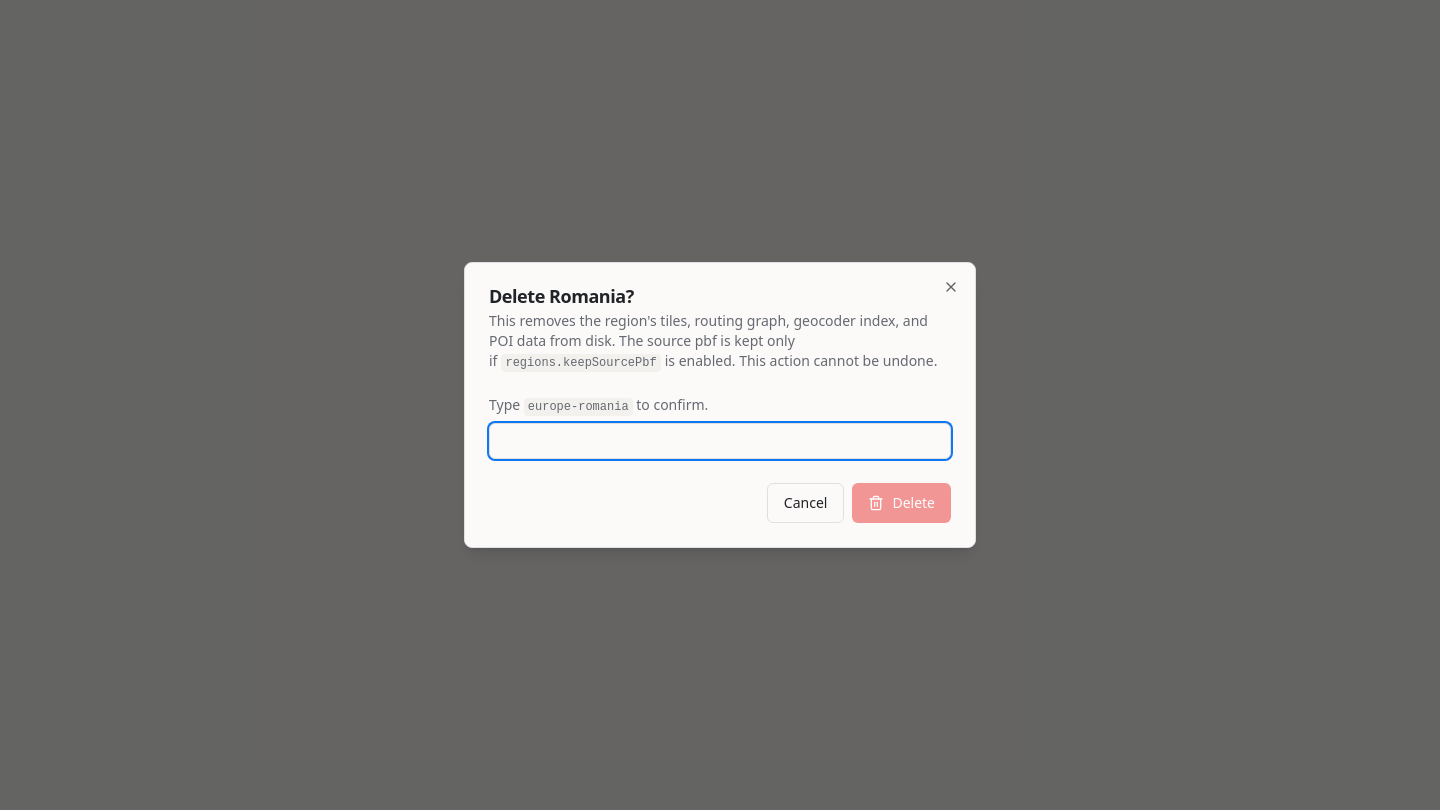
<DeleteDialog /> › keeps the delete button disabled until the typed name matches
The image size is (1440, 810).
Check: the button with aria-label "delete romania" is disabled, box [852,483,951,523]
In the field named "confirm region name": (720, 441) [489,423,951,459], type "europe-rom"
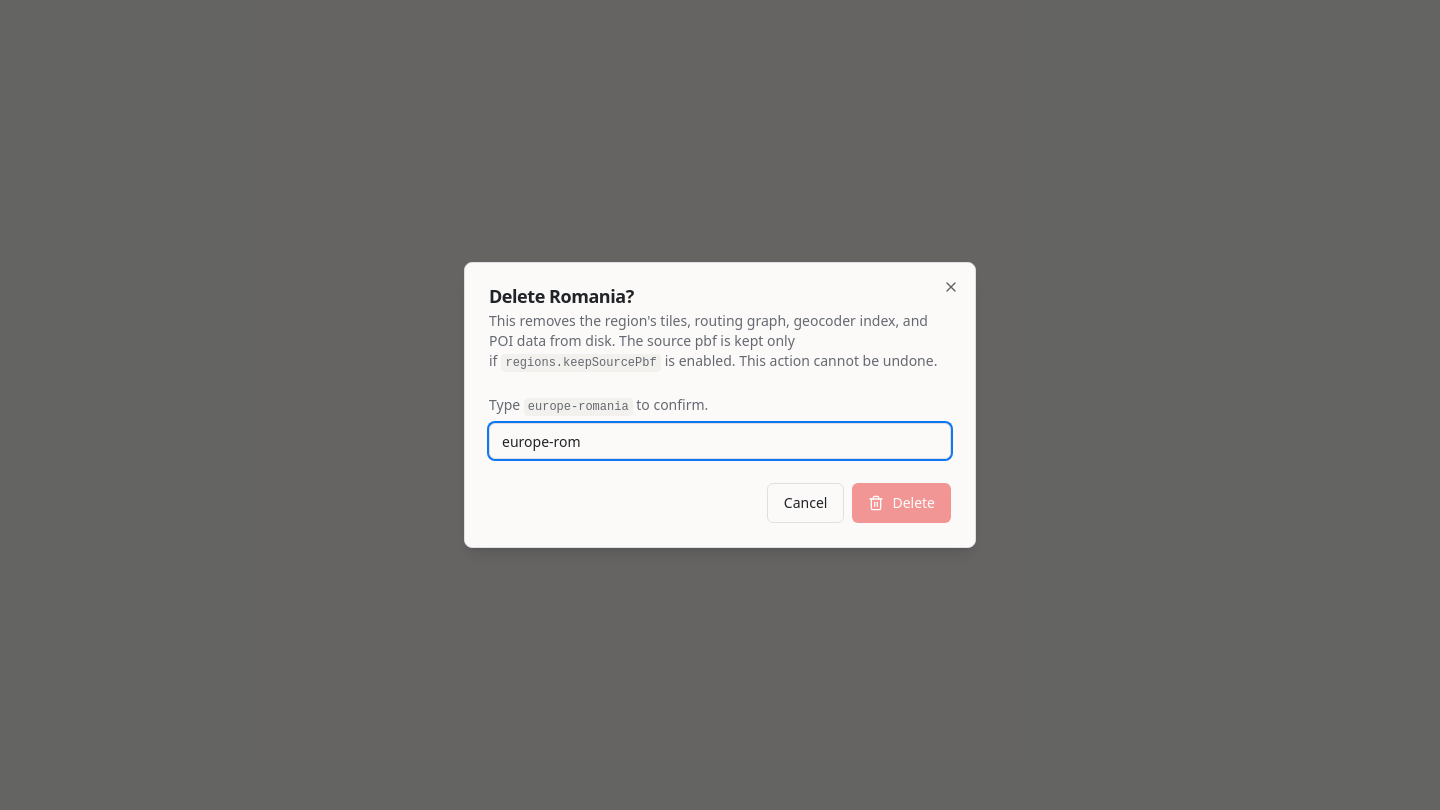
Check: the button with aria-label "delete romania" is disabled, box [852,483,951,523]
In the field named "confirm region name": (720, 441) [489,423,951,459], type "ania"
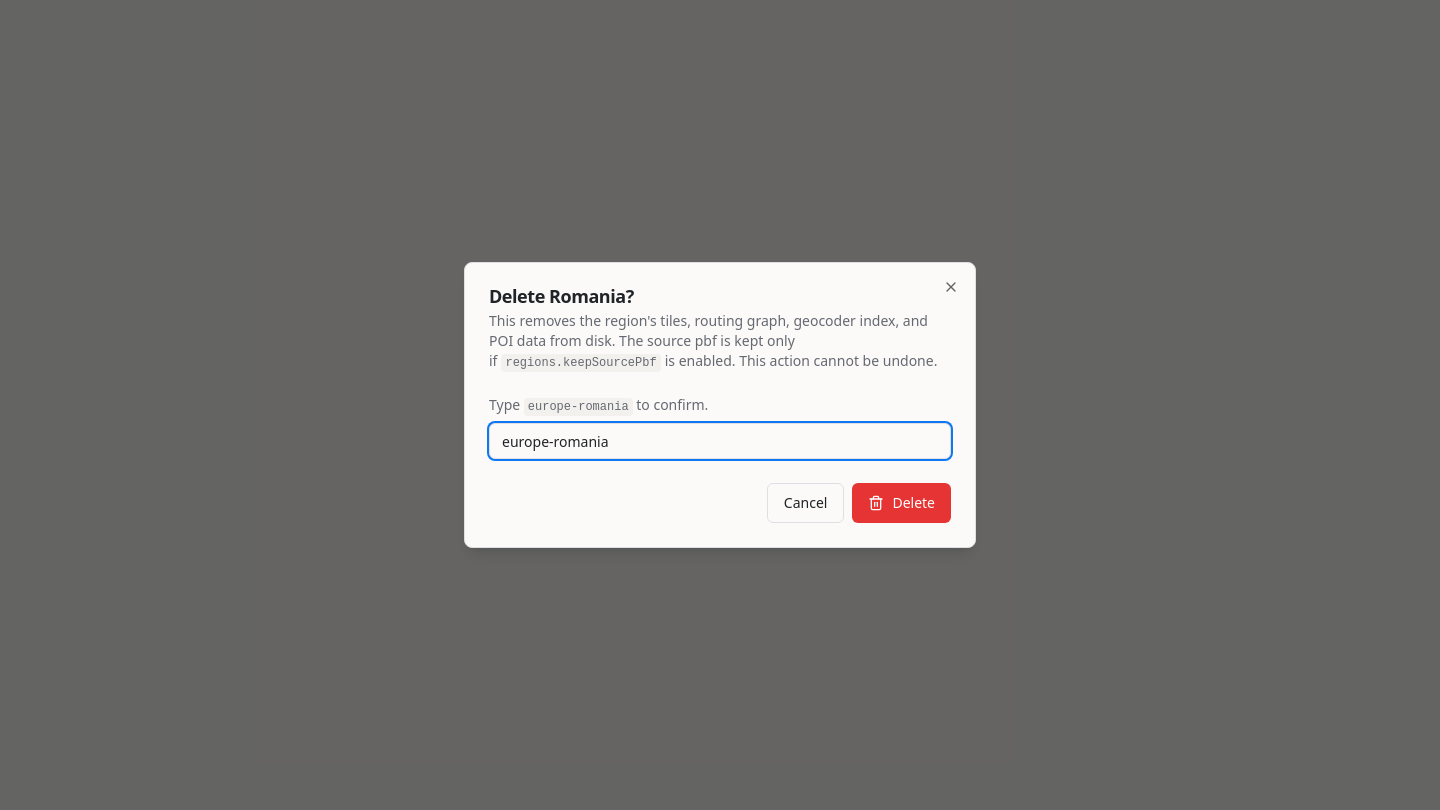
Check: the button with aria-label "delete romania" is enabled, box [852,483,951,523]
